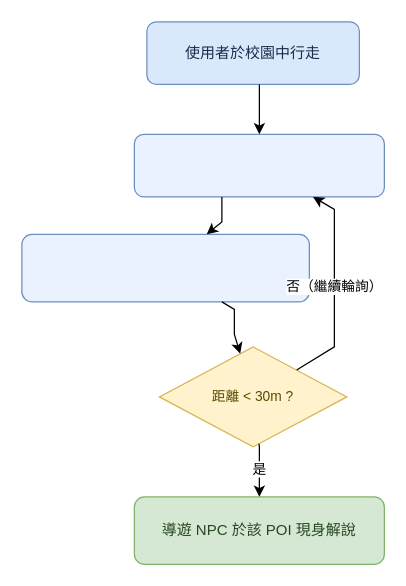
This 406x586 diagram has some shape labels left out. Each missing label, with the centre of its shape:
PoiService.GetNearest 找最近 POI（Haversine）: the point at 165,267
每秒讀取相機 Geospatial pose: the point at 258,165
